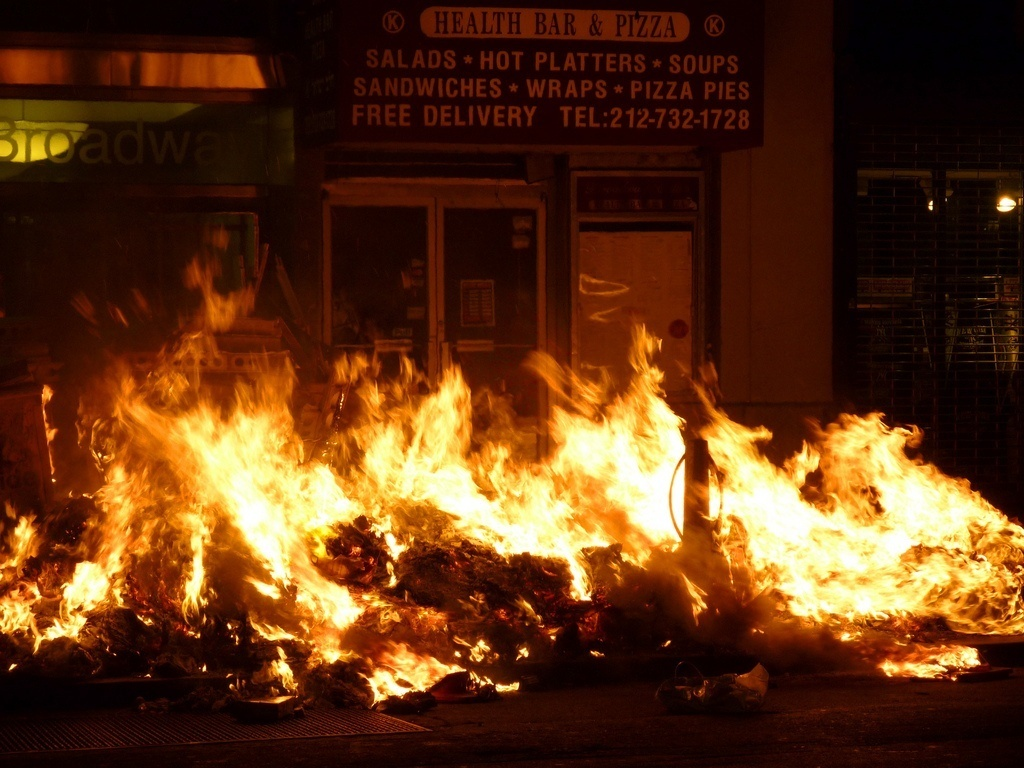fire: (0, 303, 880, 721)
